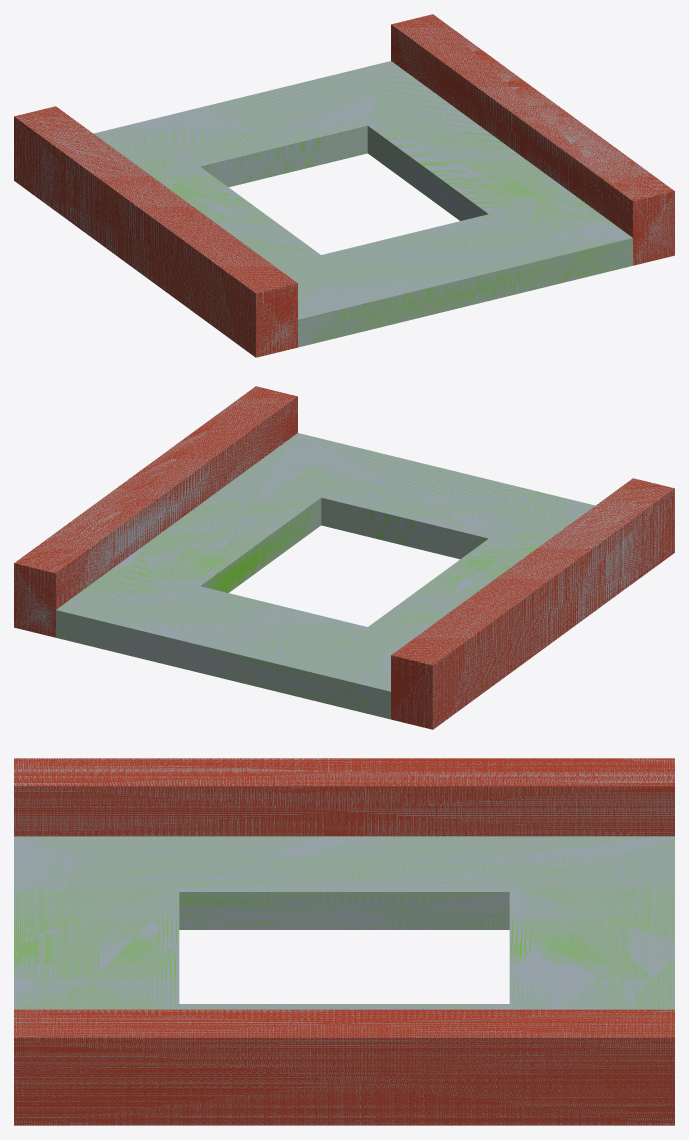
File: Gap_01.obj
3 views of the same model, one above another, from view 1: azimuth 30°, elevation 25°; view 2: azimuth 150°, elevation 25°; view 3: azimuth 270°, elevation 25° (orthographic). The views are drawn at different scales.
Visible parts, largest first — view 1: Mesh1 Gap Model; view 2: Mesh1 Gap Model; view 3: Mesh1 Gap Model.
Boxes of the visible parts, bbox=[...] form: Mesh1 Gap Model: bbox=[14, 14, 674, 357]; Mesh1 Gap Model: bbox=[14, 386, 674, 729]; Mesh1 Gap Model: bbox=[14, 758, 674, 1125].
Bounding box in the file's own units: 3 × 0.44 × 3.
